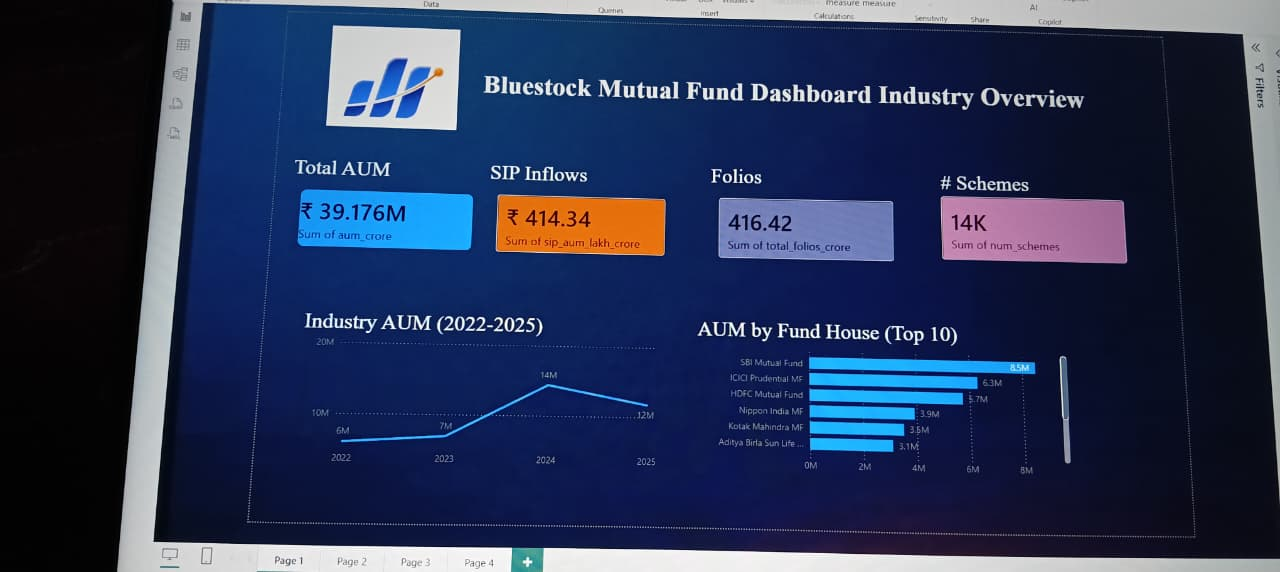

The dashboard page shown, as its layout file describes it:
{"tool":"powerbi","page":{"name":"Page 1","canvas":[1280,720],"ordinal":0},"visuals":[{"type":"cardVisual","title":"Total AUM","fields":{"Data":["Sum(03_aum_by_fund_house.aum_crore)"]},"box":[20,213.3,273.3,148.3],"z":0},{"type":"cardVisual","title":"SIP Inflows","fields":{"Data":["Sum(04_monthly_sip_inflows.sip_aum_lakh_crore)"]},"box":[293.3,211.7,273.3,150],"z":1000},{"type":"cardVisual","title":"Folios","fields":{"Data":["Sum(06_industry_folio_count.total_folios_crore)"]},"box":[614.8,208.6,273.1,149.6],"z":2000},{"type":"cardVisual","title":"# Schemes","fields":{"Data":["Sum(03_aum_by_fund_house.num_schemes)"]},"box":[938.3,211.7,273.3,135],"z":3000},{"type":"lineChart","title":"Industry AUM  (2022-2025)","fields":{"Category":["03_aum_by_fund_house.date.Variation.Date Hierarchy.Year","03_aum_by_fund_house.date.Variation.Date Hierarchy.Quarter","03_aum_by_fund_house.date.Variation.Date Hierarchy.Month","03_aum_by_fund_house.date.Variation.Date Hierarchy.Day"],"Y":["Sum(03_aum_by_fund_house.aum_crore)"]},"box":[49.4,430.9,496.7,231.9],"z":4000},{"type":"clusteredBarChart","title":"AUM by Fund House (Top 10)","fields":{"Category":["03_aum_by_fund_house.fund_house"],"Y":["Sum(03_aum_by_fund_house.aum_crore)"]},"box":[592.8,430.9,524.2,231.9],"z":5000},{"type":"textbox","box":[261.7,35,918.3,95],"z":6000},{"type":"textbox","box":[615,18.3,186.7,75],"z":7000},{"type":"image","box":[28.3,18.3,256.7,150],"z":8000}]}

Visuals, with their boxes on the page's 1280x720 design canvas (x1, y1, x2, y2). These are canvas units, not pixel positions in the 1280x572 screenshot, which may show the page scaled, cropped or inside an application window:
"Total AUM" cardVisual: <bbox>20, 213, 293, 362</bbox>
"SIP Inflows" cardVisual: <bbox>293, 212, 567, 362</bbox>
"Folios" cardVisual: <bbox>615, 209, 888, 358</bbox>
"# Schemes" cardVisual: <bbox>938, 212, 1212, 347</bbox>
"Industry AUM  (2022-2025)" lineChart: <bbox>49, 431, 546, 663</bbox>
"AUM by Fund House (Top 10)" clusteredBarChart: <bbox>593, 431, 1117, 663</bbox>
textbox: <bbox>262, 35, 1180, 130</bbox>
textbox: <bbox>615, 18, 802, 93</bbox>
image: <bbox>28, 18, 285, 168</bbox>
